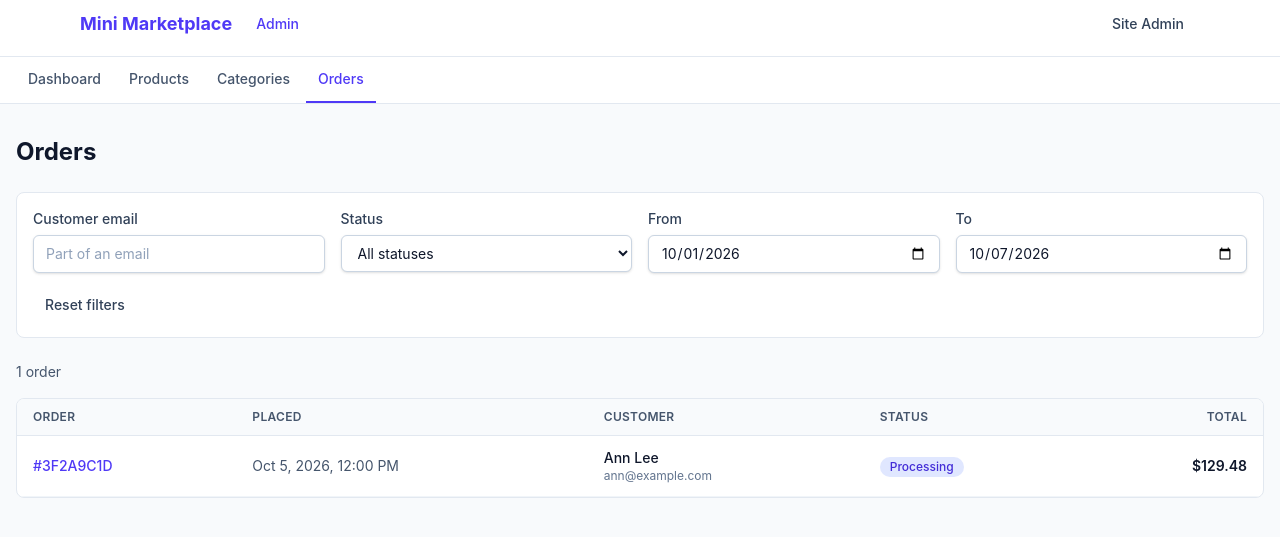
Scenario: the admin order table › shows an inverted range as an error and does not ask the server for it
Check: the link "#3F2A9C1D" is shown, box top-left (33, 457), bottom-right (112, 474)
Type "2026-09-01" into the date field labelled "To" at {"x": 1101, "y": 254}, box top-left (956, 235), bottom-right (1247, 273)
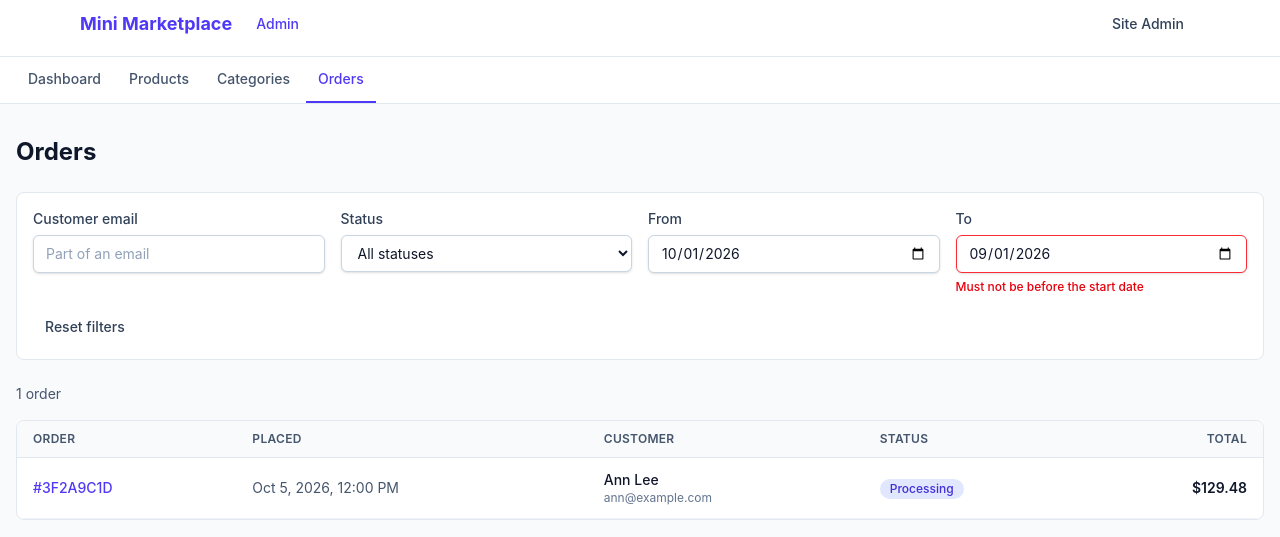
Check: the text "Must not be before the start date" is shown, box top-left (956, 279), bottom-right (1144, 294)
